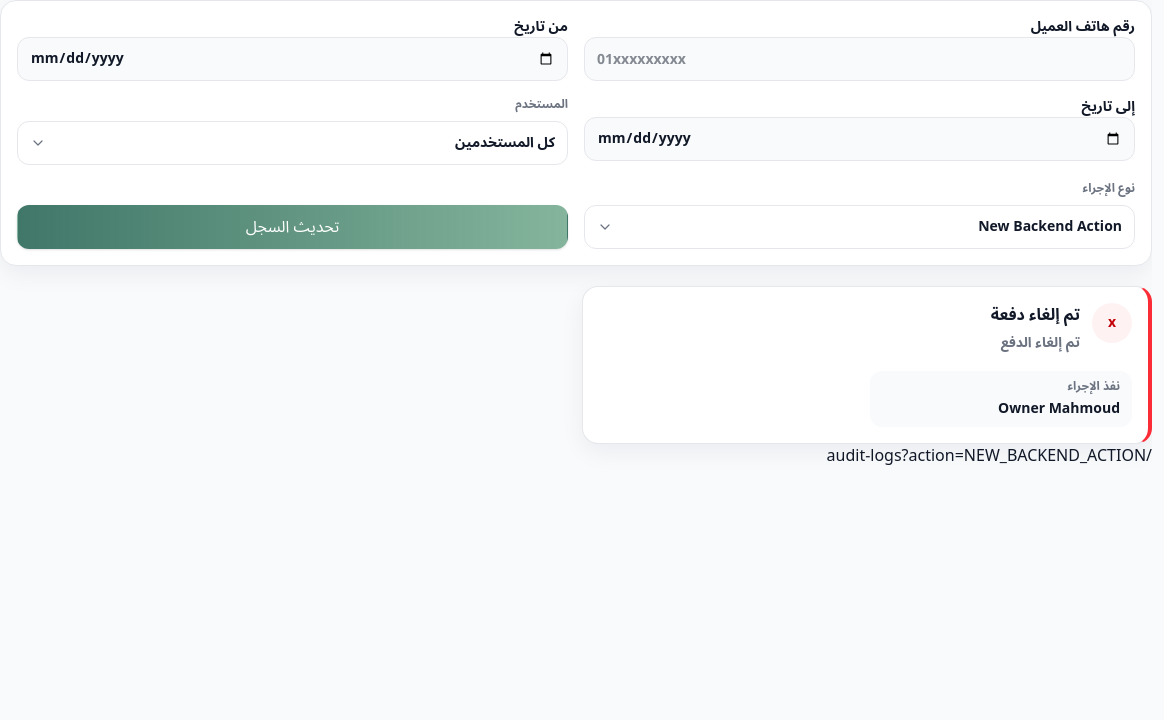
Scenario: AuditLogsPage › preserves unknown deep-linked action values
This screenshot has width=1164, height=720.
Click the button named "نوع الإجراء": click(1050, 226) [584,205,1135,249]
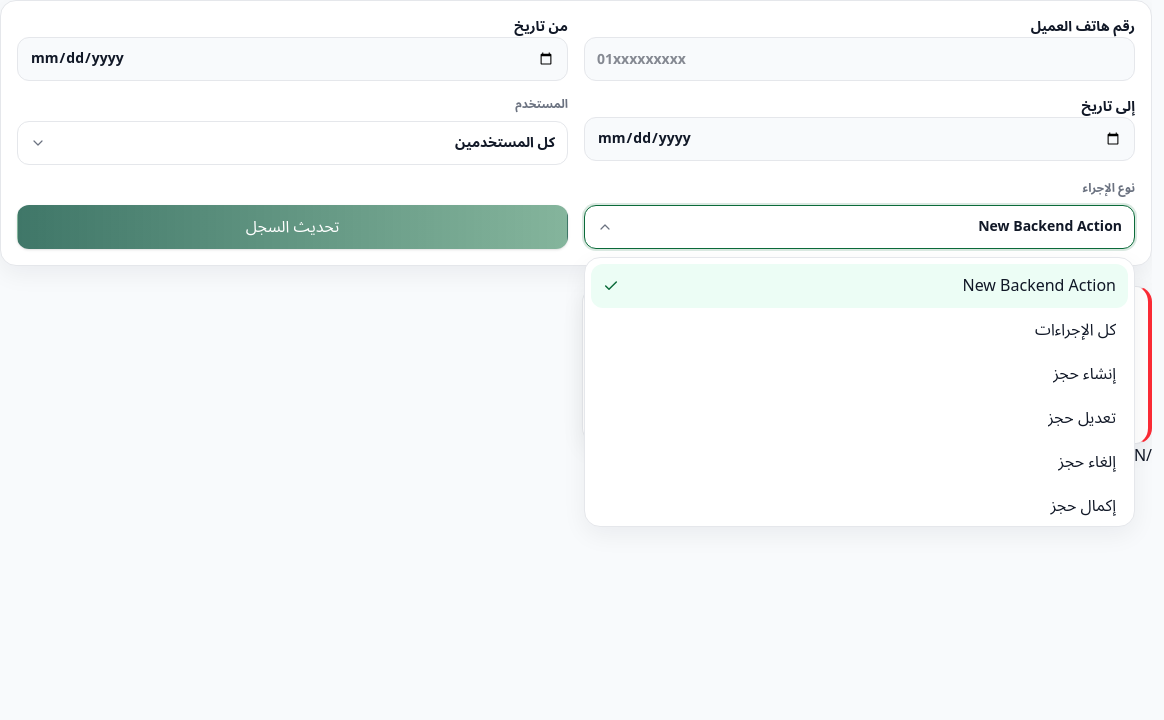
Now the option "New Backend Action" holds "NEW_BACKEND_ACTION", box [591,264,1128,308]
